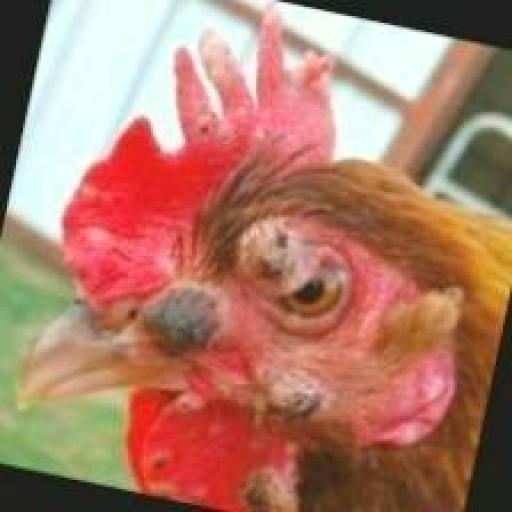disease: (212, 185, 375, 512), (92, 368, 212, 512), (116, 267, 250, 378), (178, 90, 286, 162)
